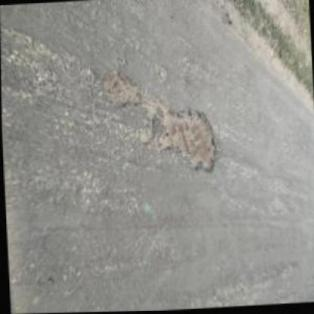Hueco: (159, 106, 220, 176), (102, 68, 141, 109)
